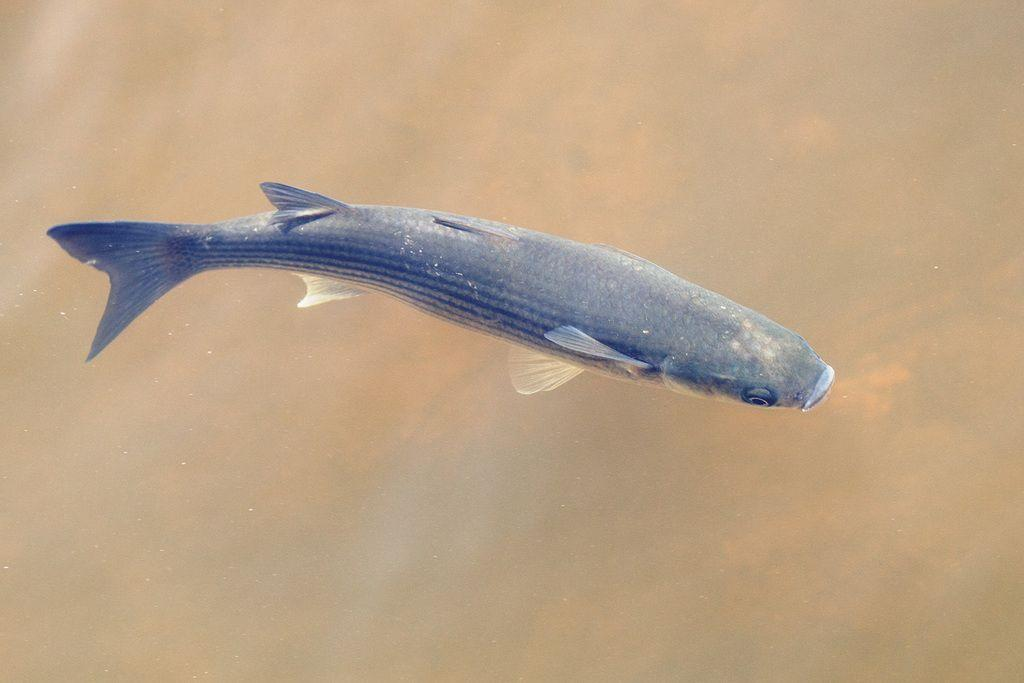Mullet: (44, 175, 839, 440)
